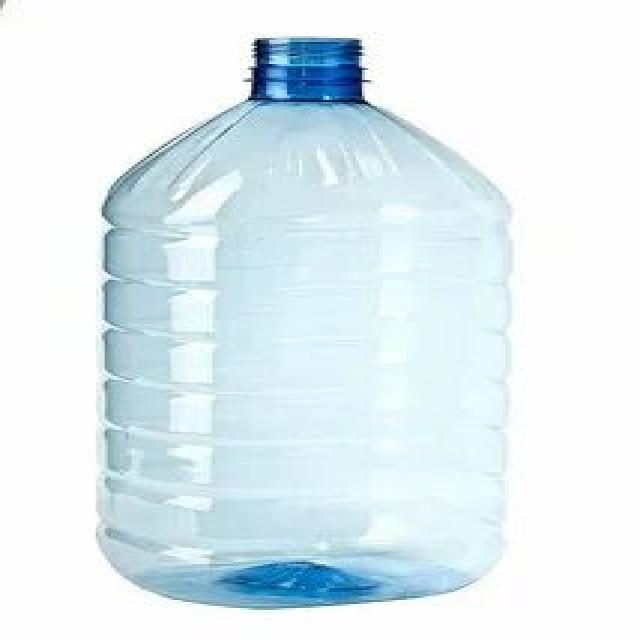blue: (100, 35, 508, 607)
